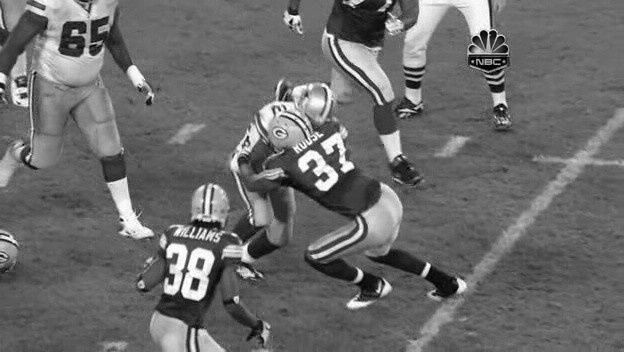person: (297, 86, 333, 132), (296, 86, 332, 132), (298, 86, 334, 132), (297, 85, 333, 131), (297, 87, 333, 133)
target_negative: (219, 48, 475, 243), (86, 229, 227, 294), (63, 69, 423, 92), (520, 324, 616, 347), (69, 310, 229, 314)
